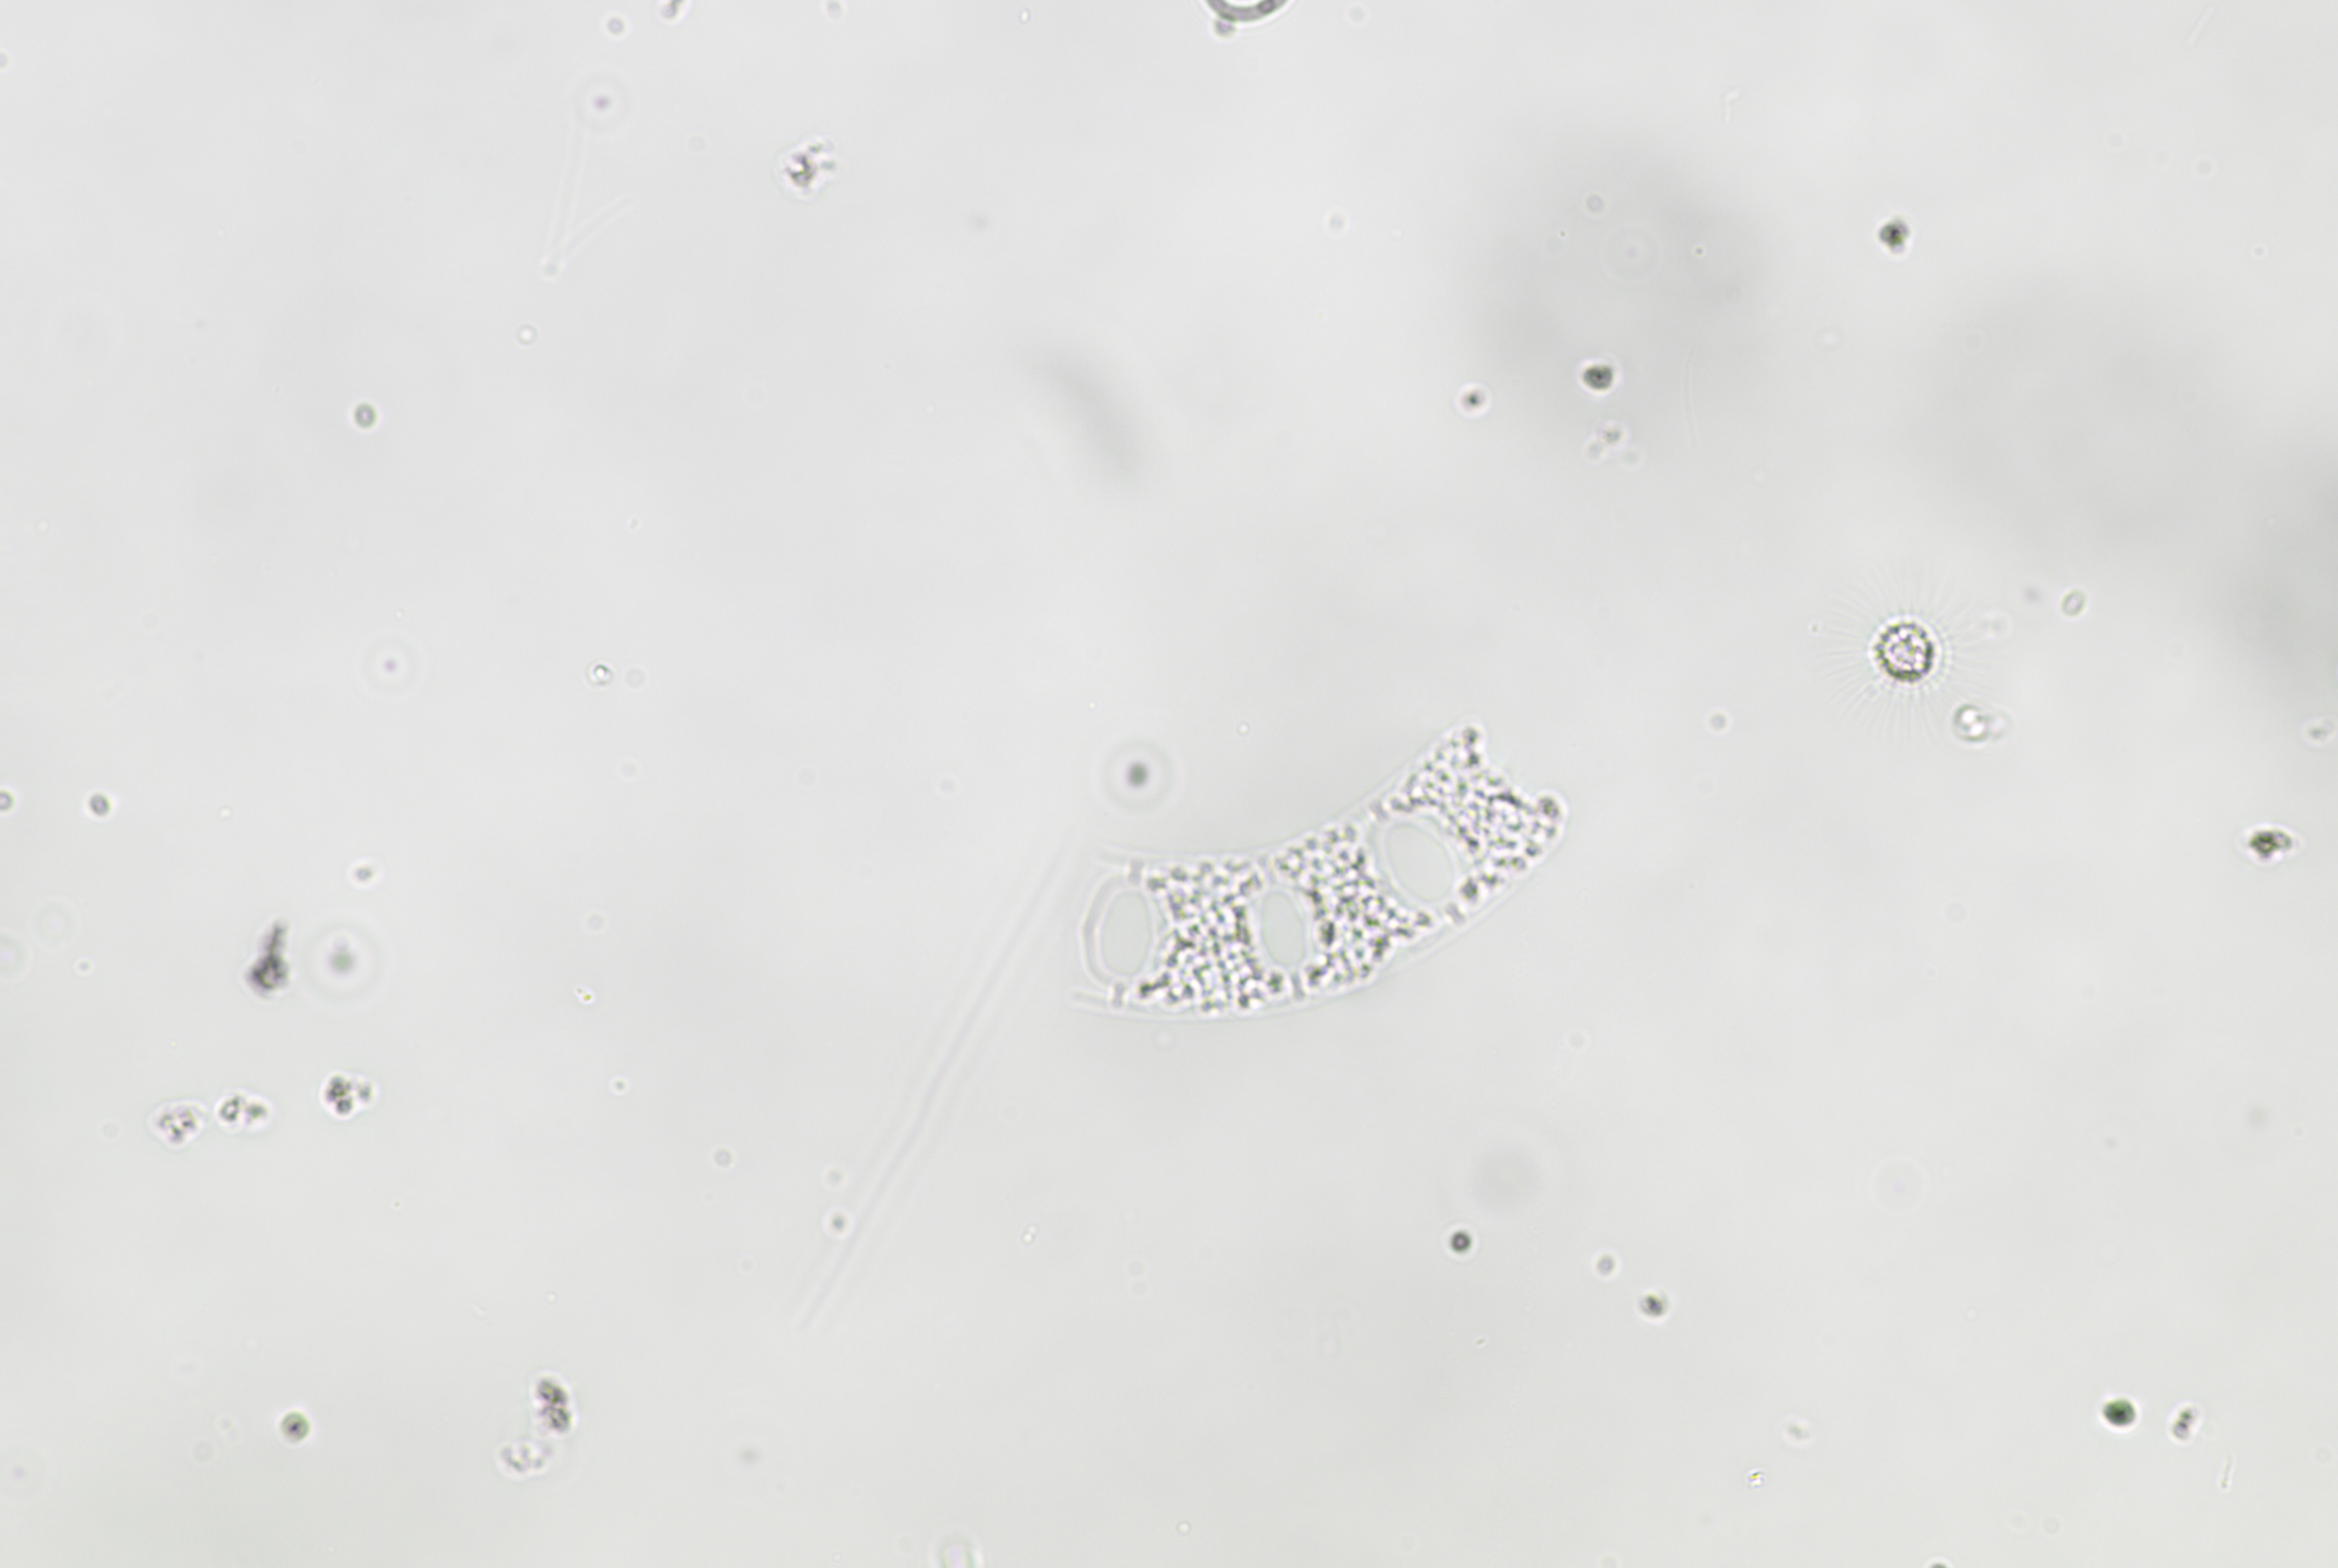bacteriastrum: (1792, 535, 2002, 758)
eucampia: (1082, 695, 1601, 1045)
